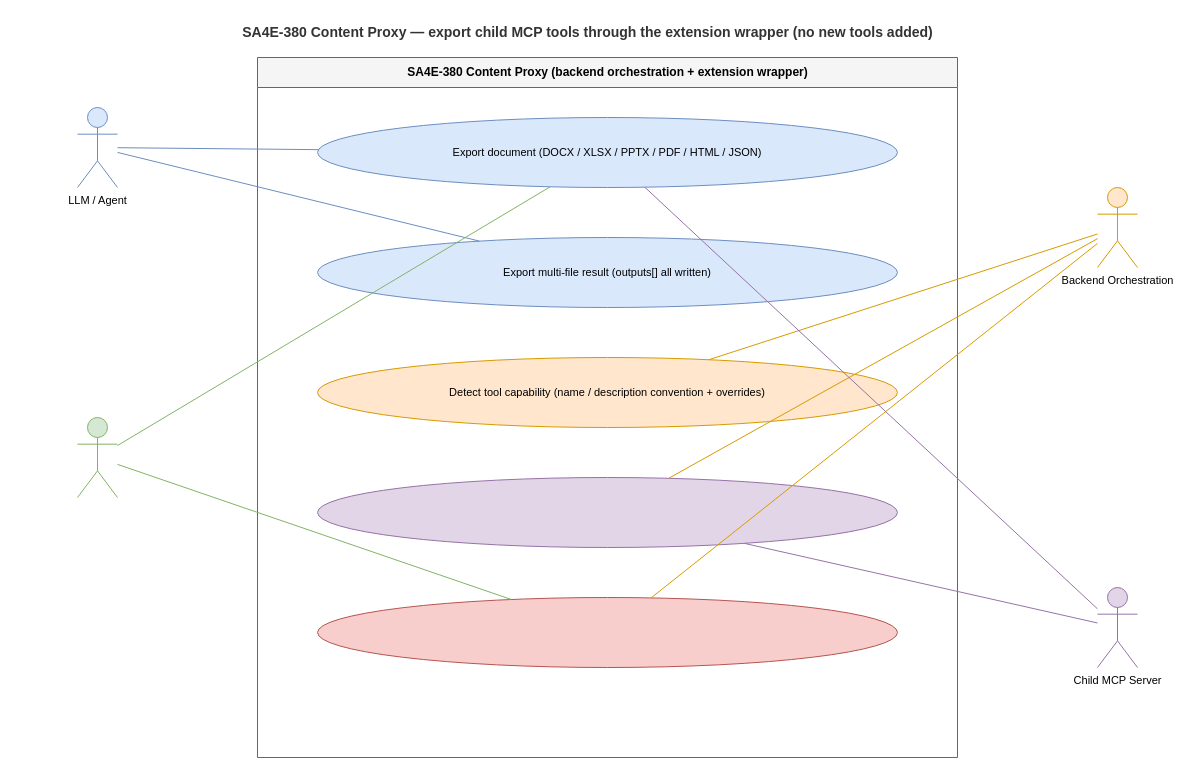
This 1190x775 diagram has some shape labels left out. Each missing label, with the centre of its shape:
"Extension Wrapper" belongs at pixel 97 457.
"Report artifact failure (ARTIFACT_FETCH_FAILED, no silent success)" belongs at pixel 607 632.
"Retrieve remote artifact (MCP resource / http(s) URL / data URI)" belongs at pixel 607 512.
